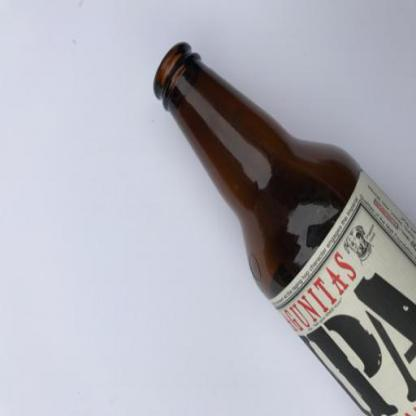trash: (153, 40, 415, 416)
